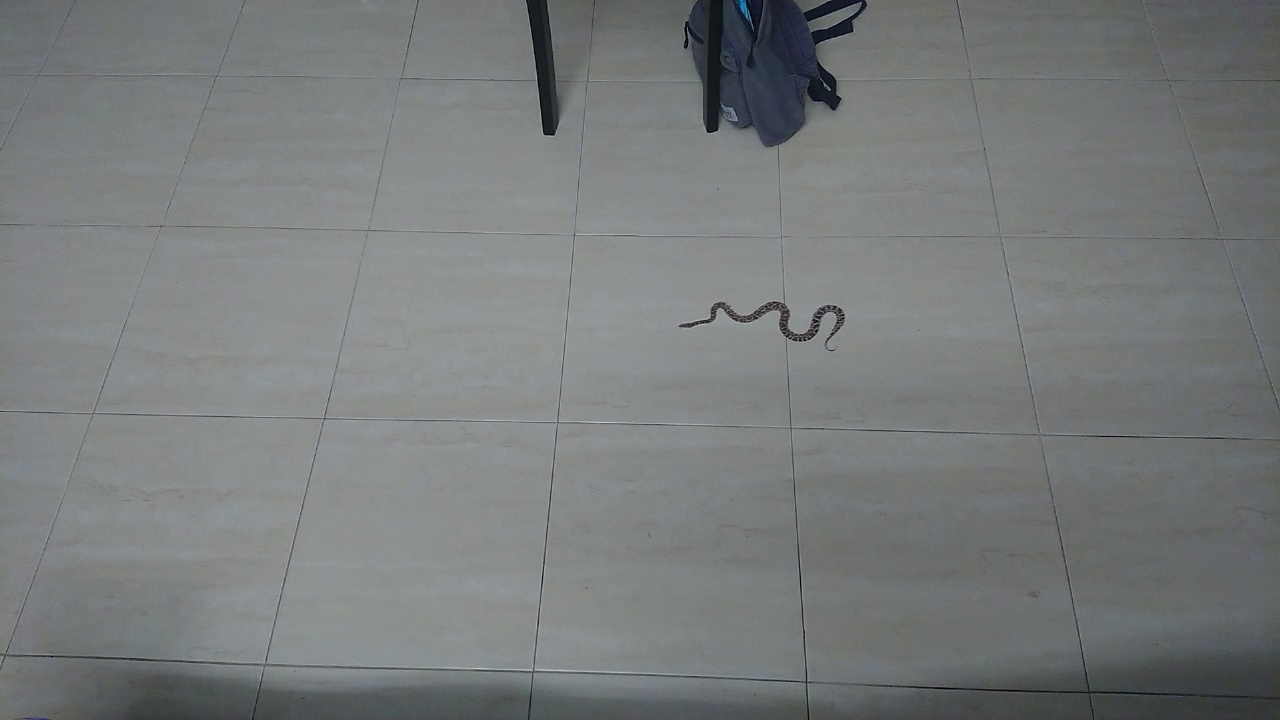snake: (647, 284, 863, 371)
